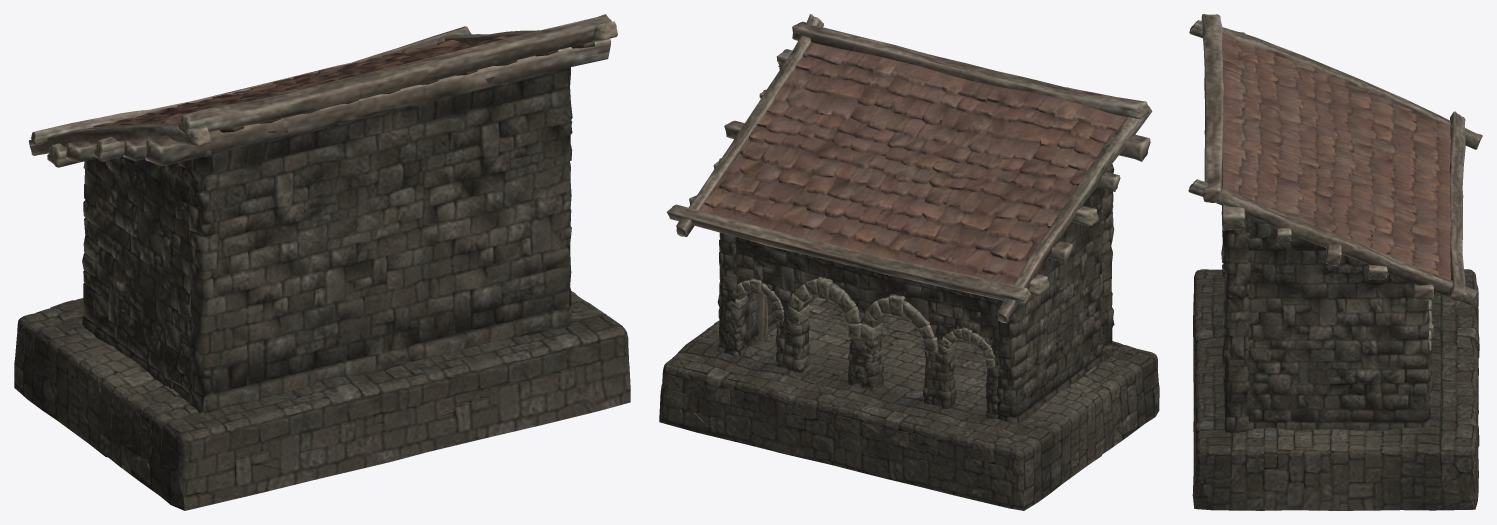
The model's file is Shed_01.fbx.
3 renders of one model, left to right at view 1: azimuth 30°, elevation 25°; view 2: azimuth 150°, elevation 25°; view 3: azimuth 270°, elevation 25°, orthographic. The views are drawn at different scales.
Parts seen in each view (by area): view 1: Shed_Wall_Back, Shed_Wall_Foundation, Shed_Wall_Blocks_Beams, Shed_Wall_Front, Shed_Roof; view 2: Shed_Roof, Shed_Wall_Foundation, Shed_Wall_Front, Shed_Wall_Blocks_Beams, Shed_Wall_Back; view 3: Shed_Roof, Shed_Wall_Foundation, Shed_Wall_Front, Shed_Wall_Blocks_Beams, Shed_Wall_Back.
Part boxes in pixels (x1,y1,x2,y2): Shed_Wall_Back: (188,67,572,414); Shed_Wall_Foundation: (14,291,630,510); Shed_Wall_Blocks_Beams: (28,14,617,167); Shed_Wall_Front: (82,156,192,402); Shed_Roof: (93,36,514,127); Shed_Roof: (700,42,1127,284); Shed_Wall_Foundation: (659,297,1159,510); Shed_Wall_Front: (717,174,1104,424); Shed_Wall_Blocks_Beams: (666,14,1152,388); Shed_Wall_Back: (1100,164,1114,361); Shed_Roof: (1222,33,1451,279); Shed_Wall_Foundation: (1192,269,1479,510); Shed_Wall_Front: (1247,215,1433,431); Shed_Wall_Blocks_Beams: (1188,14,1482,352); Shed_Wall_Back: (1221,214,1250,432).
Size of what is drawn, in the model's own units: 1424 by 1137 by 947.
